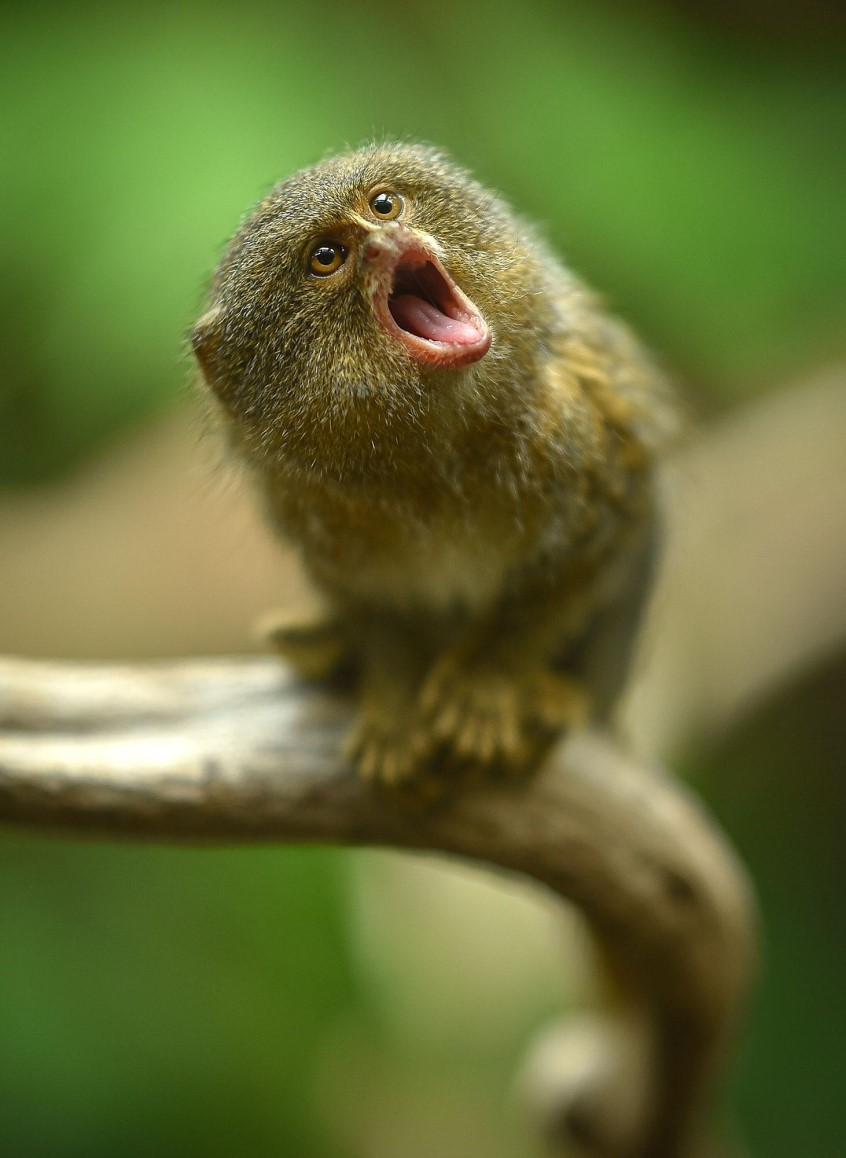PygmyMarmoset: (162, 137, 701, 793)
